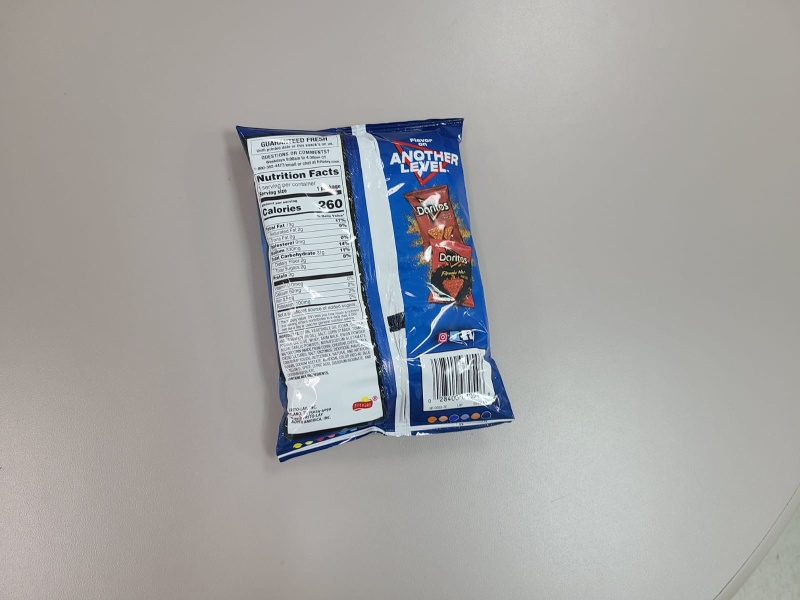doritos: (236, 114, 516, 464)
